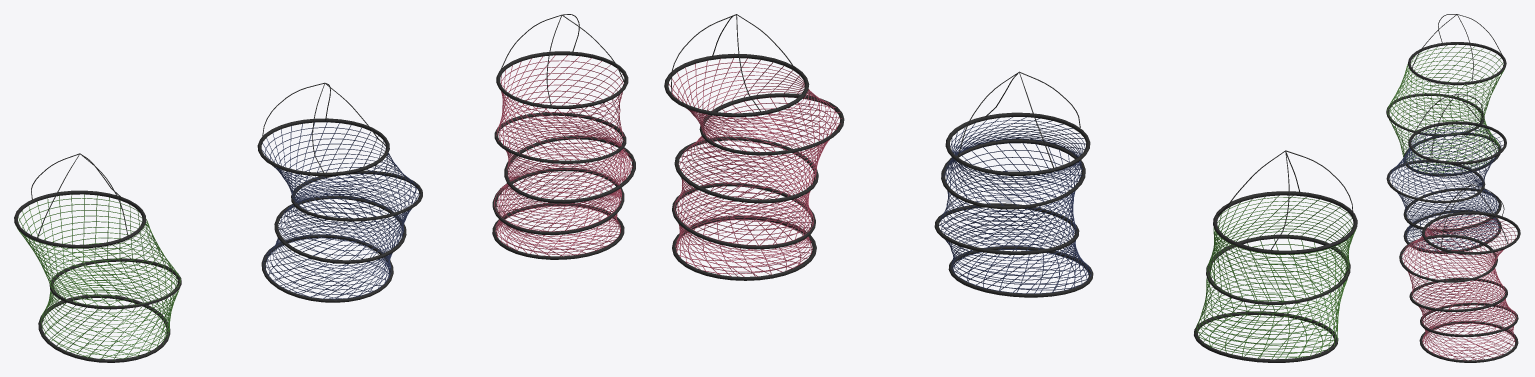
Rendered from siatkiv2.fbx.
3 views of the same model, side by side, from view 1: azimuth 30°, elevation 25°; view 2: azimuth 150°, elevation 25°; view 3: azimuth 270°, elevation 25° (orthographic). The views are drawn at different scales.
Visible parts, largest first — view 1: Circle.009, Circle.006, Circle.001, Circle.008, Circle.005, Circle.002; view 2: Circle.009, Circle.006, Circle.001, Circle.008, Circle.005, Circle.002; view 3: Circle.009, Circle.006, Circle.001, Circle.008, Circle.005, Circle.002, Circle.007, Circle.004, Circle.010.
Part boxes in pixels (<box>): Circle.009: <box>494,55,632,256</box>; Circle.006: <box>261,122,420,299</box>; Circle.001: <box>15,194,180,360</box>; Circle.008: <box>492,51,635,259</box>; Circle.005: <box>257,118,422,302</box>; Circle.002: <box>14,190,181,362</box>; Circle.009: <box>669,58,841,276</box>; Circle.006: <box>938,117,1091,293</box>; Circle.001: <box>1195,195,1356,359</box>; Circle.008: <box>664,53,844,280</box>; Circle.005: <box>934,112,1093,297</box>; Circle.002: <box>1194,191,1357,362</box>; Circle.009: <box>1401,214,1517,360</box>; Circle.006: <box>1388,124,1503,250</box>; Circle.001: <box>1387,44,1504,174</box>; Circle.008: <box>1399,211,1520,362</box>; Circle.005: <box>1386,121,1506,253</box>; Circle.002: <box>1386,42,1506,176</box>; Circle.007: <box>1414,94,1497,158</box>; Circle.004: <box>1411,14,1502,80</box>; Circle.010: <box>1435,184,1508,247</box>.
Bounding box in the file's own units: 1088 × 385 × 280.
